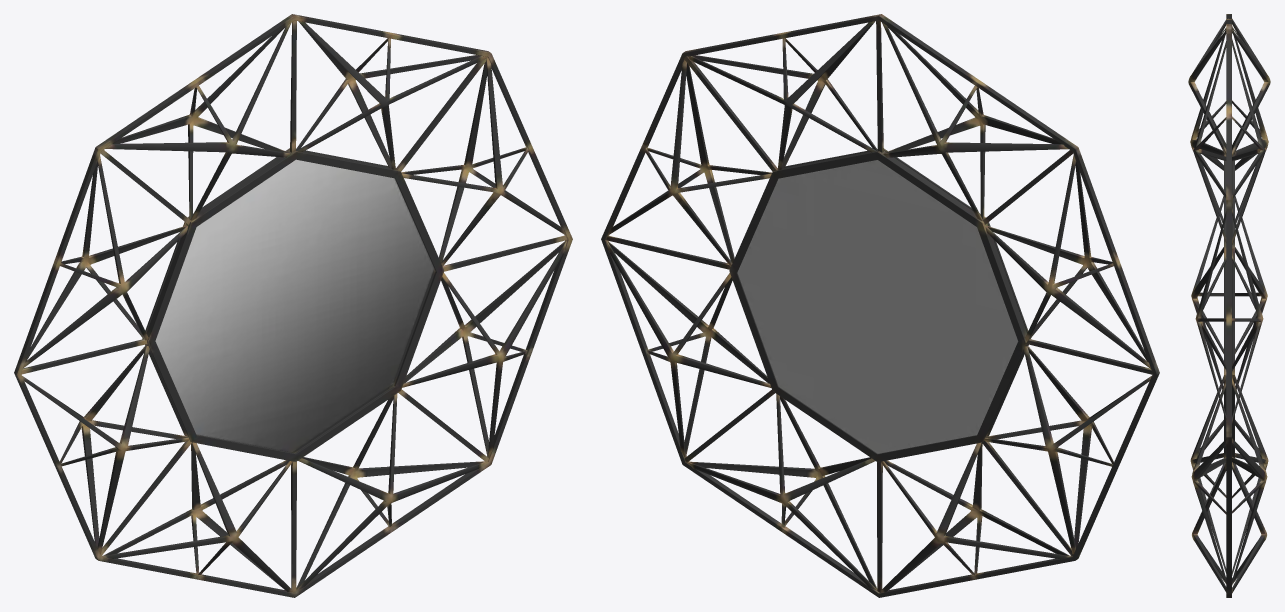
The model's file is abo-B071DQRXDR.glb.
The picture shows the model from 3 angles, left to right: view 1: azimuth 30°, elevation 25°; view 2: azimuth 150°, elevation 25°; view 3: azimuth 270°, elevation 25°; orthographic projection. The views are drawn at different scales.
Size of the model in its own units: 0.71 by 0.71 by 0.094.
1 material, 1 textured.
